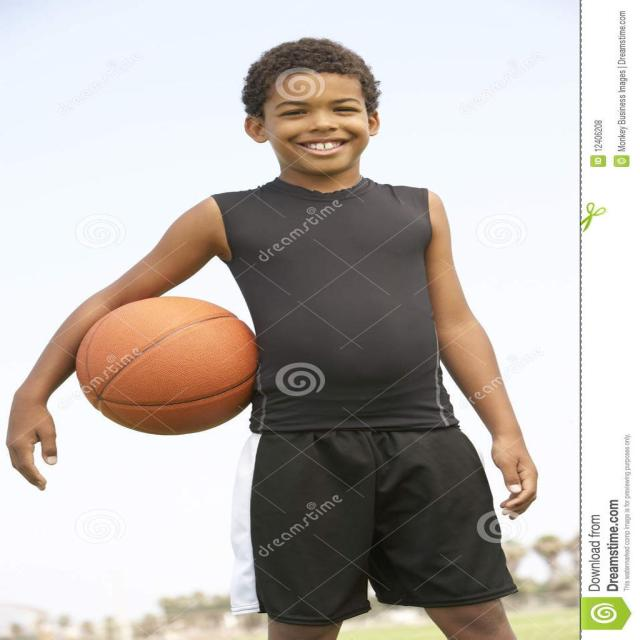Face: (256, 69, 377, 176)
